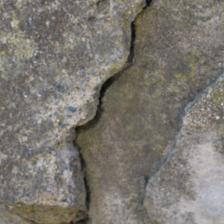Crack: (31, 3, 121, 215)
